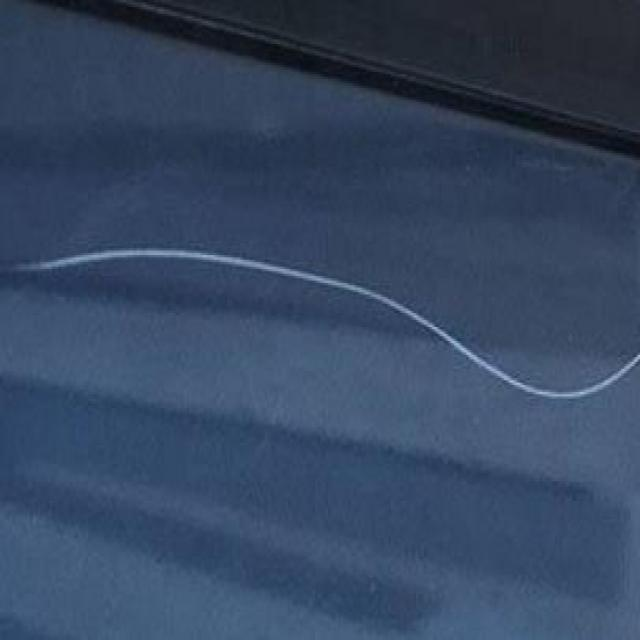scratch: (4, 239, 640, 409)
